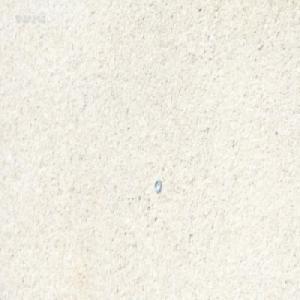Washer: (153, 178, 161, 193)
